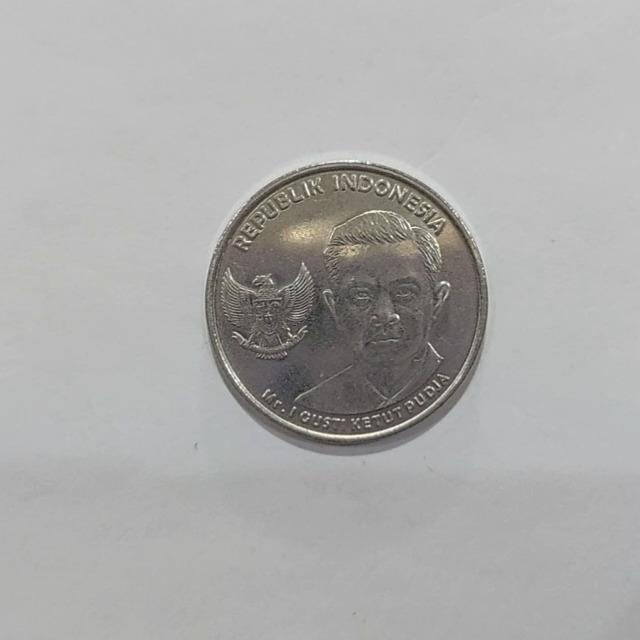Rp100: (204, 156, 489, 448), (285, 206, 454, 420)
